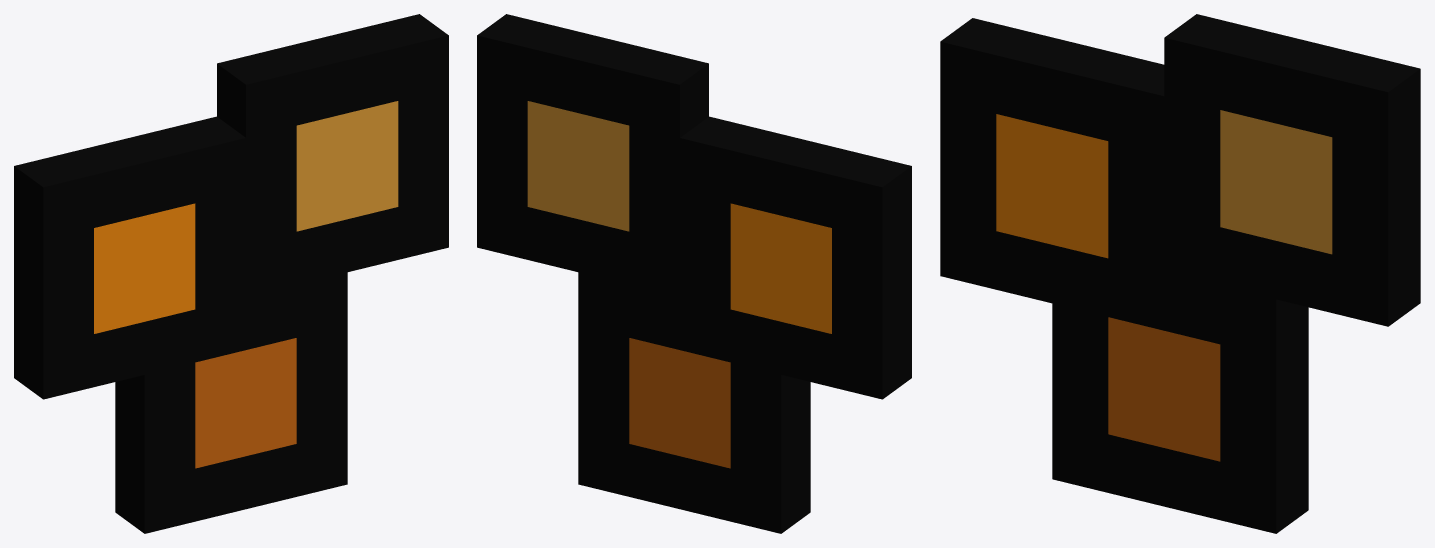
Rendered from Carrot Seeds.glb.
The picture shows the model from 3 angles, left to right: view 1: azimuth 30°, elevation 25°; view 2: azimuth 150°, elevation 25°; view 3: azimuth 330°, elevation 25°; orthographic projection. The views are drawn at different scales.
Parts seen in each view (by area): view 1: generated(Clone); view 2: generated(Clone); view 3: generated(Clone).
Boxes of the visible parts, bbox=[...] form: generated(Clone): bbox=[14, 14, 448, 533]; generated(Clone): bbox=[477, 14, 911, 533]; generated(Clone): bbox=[940, 14, 1420, 533].
Bounding box in the file's own units: 8 × 8 × 1.
1 material, 1 textured.
